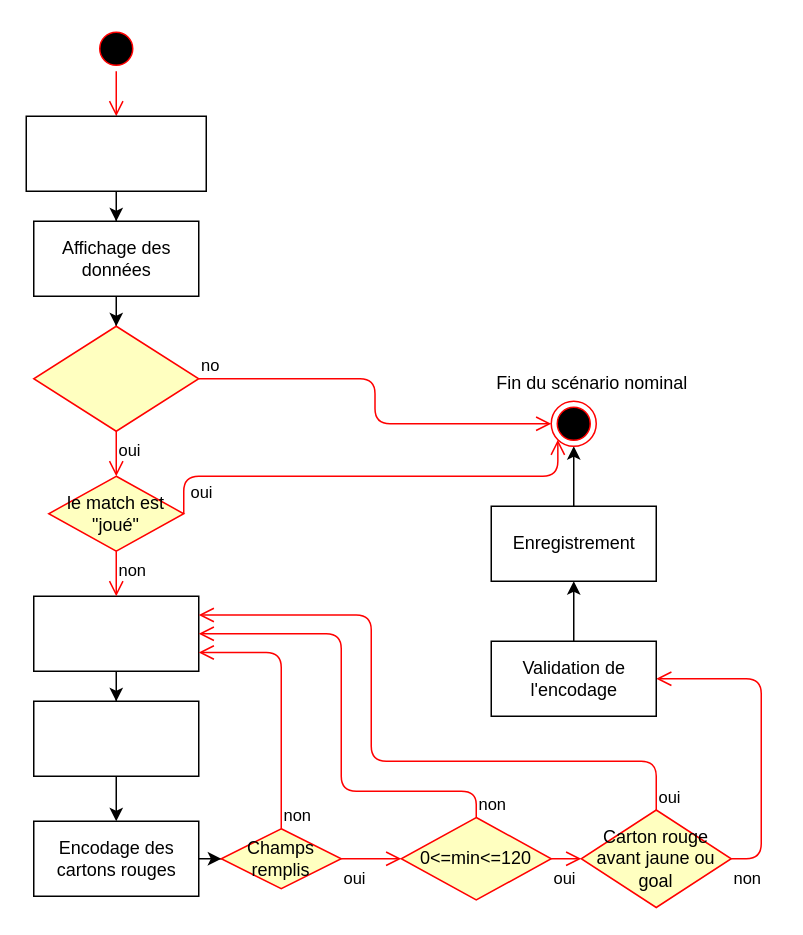
The diagram is 803 pixels wide and 935 high, and some of its shapes have lost their labels. Here are the shapes that lost their labels. From the top down, the box of each, then its label:
(25, 115, 206, 191): Demande des données nécessaires à la DB
(32, 325, 199, 431): Feuilles de matchs "remplies"
(32, 595, 199, 671): Encodage des goals
(32, 700, 199, 776): Encodage des cartons jaunes
